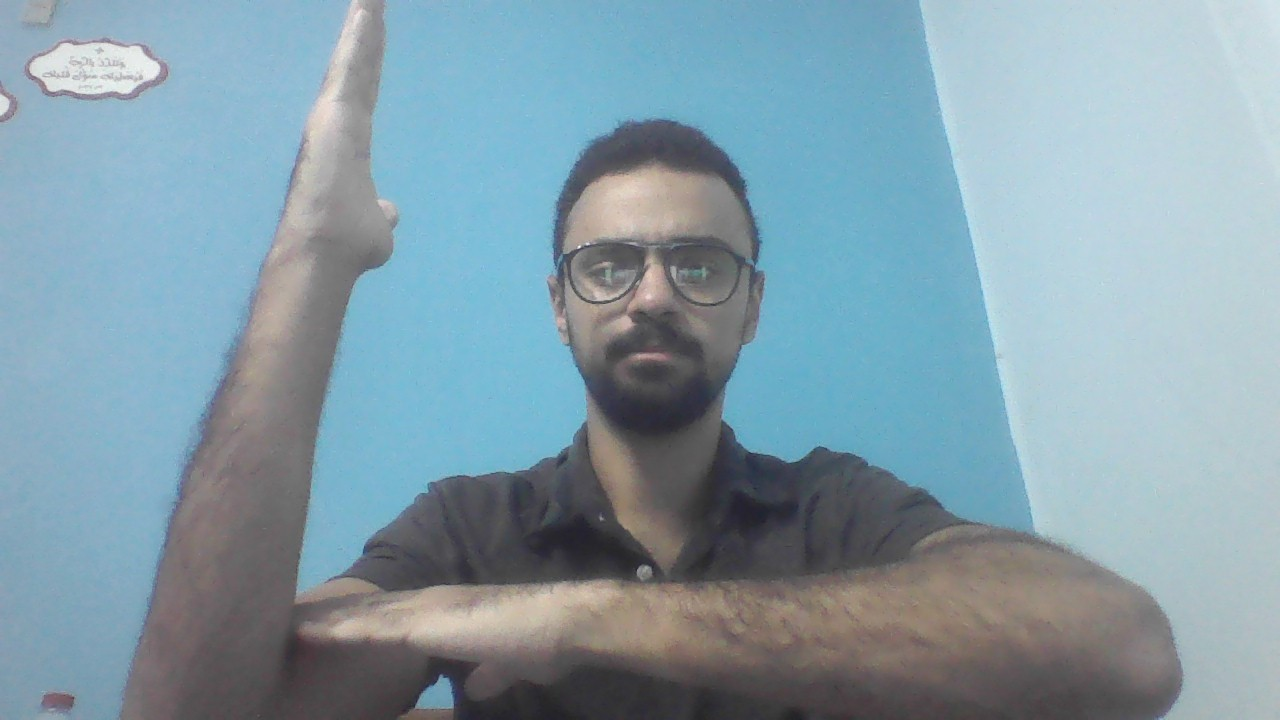morning: (122, 15, 1184, 715)
